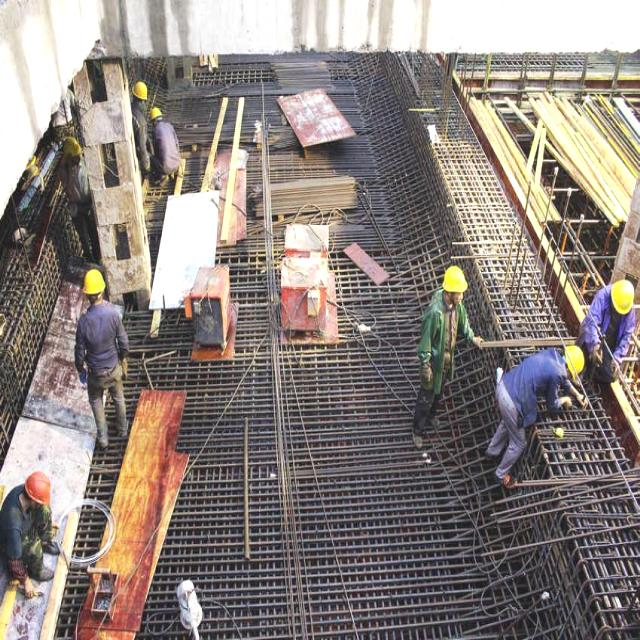head_helmet: (24, 472, 52, 506), (610, 280, 636, 314), (442, 264, 469, 296), (564, 342, 583, 378), (81, 269, 106, 295), (59, 136, 82, 158), (132, 80, 147, 100), (150, 104, 162, 122)
person: (474, 344, 586, 474), (413, 267, 470, 448), (75, 266, 129, 444), (584, 276, 637, 393), (1, 473, 56, 580), (58, 140, 93, 257), (149, 106, 179, 186), (128, 78, 149, 169)
